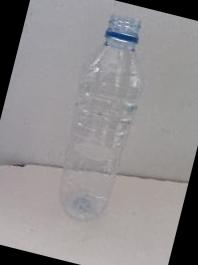Plastik: (60, 13, 144, 221)
